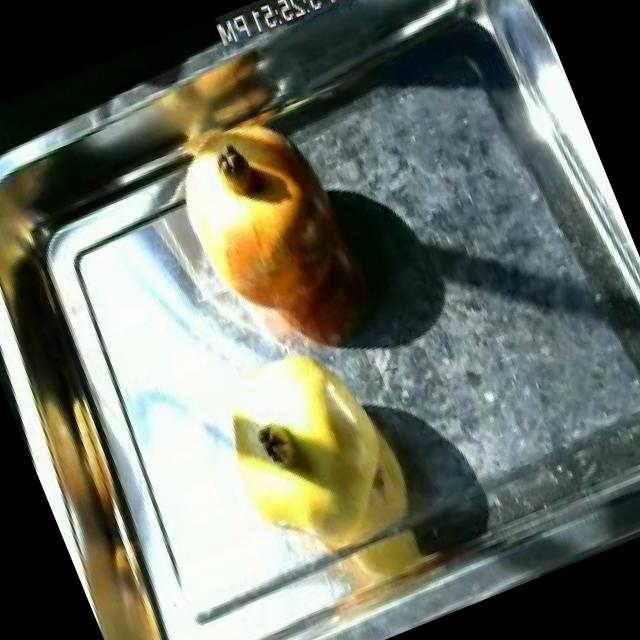fruit: (187, 312, 429, 584), (149, 94, 375, 349)
